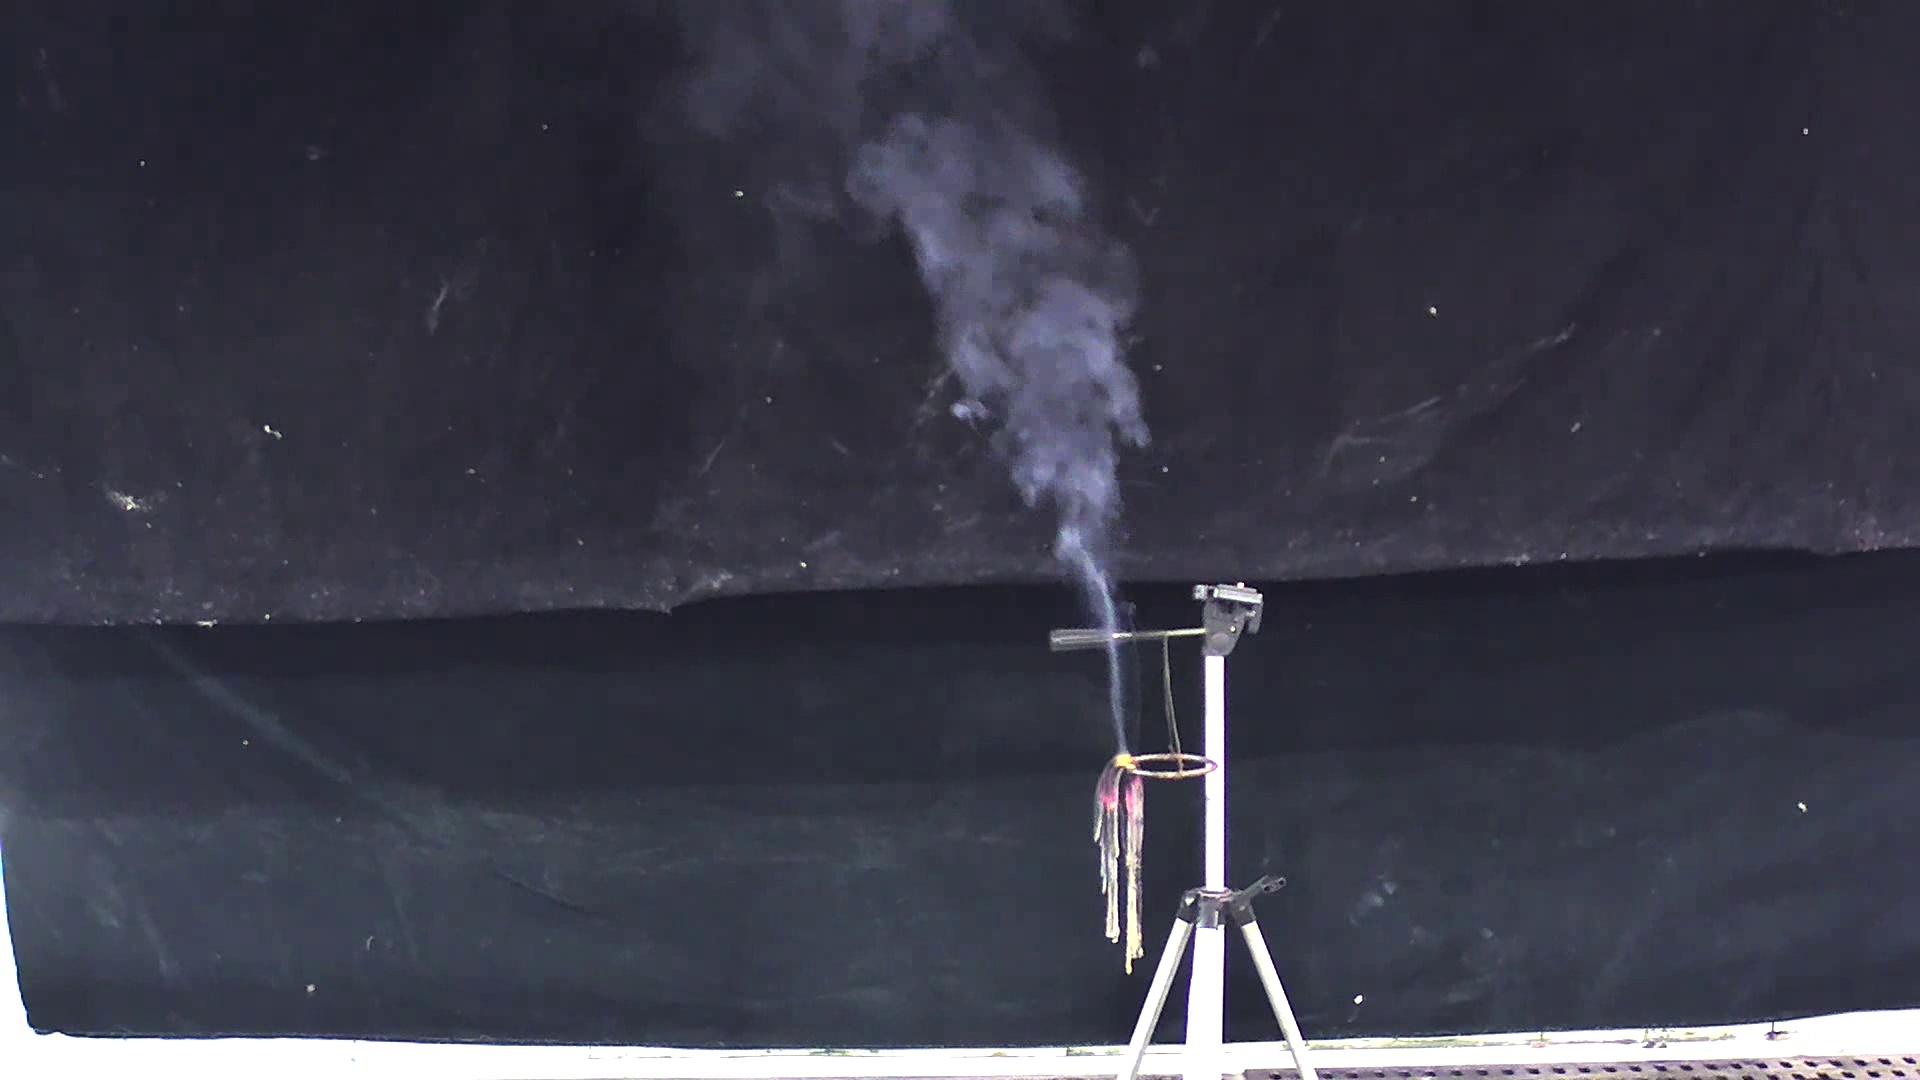smoke: (836, 59, 1154, 742)
